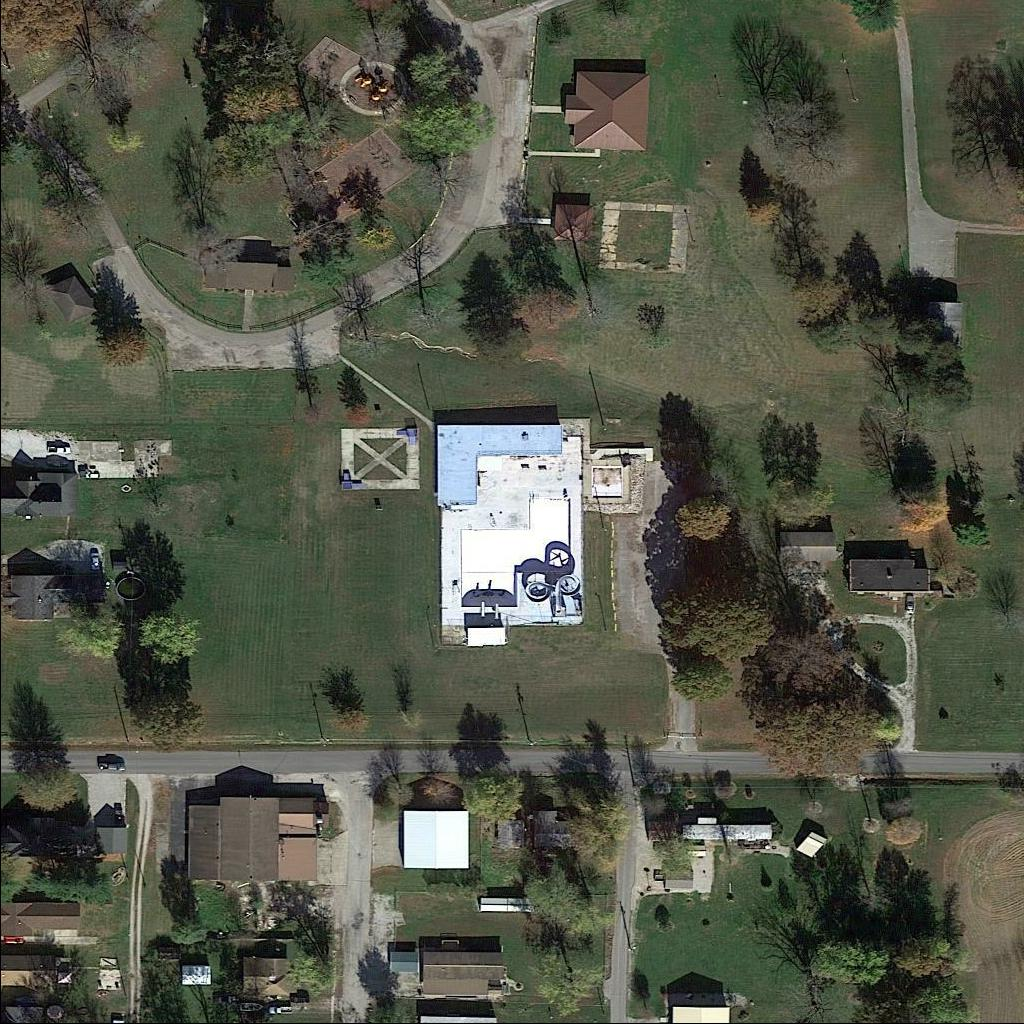ship: (239, 1002, 263, 1012)
